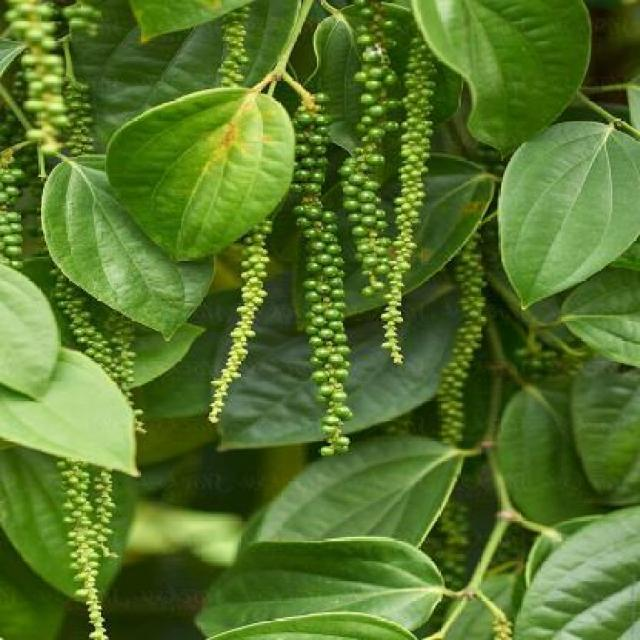UNRIPE: (290, 93, 355, 462), (369, 59, 446, 353), (430, 256, 508, 447), (201, 238, 277, 417), (55, 477, 119, 631)
